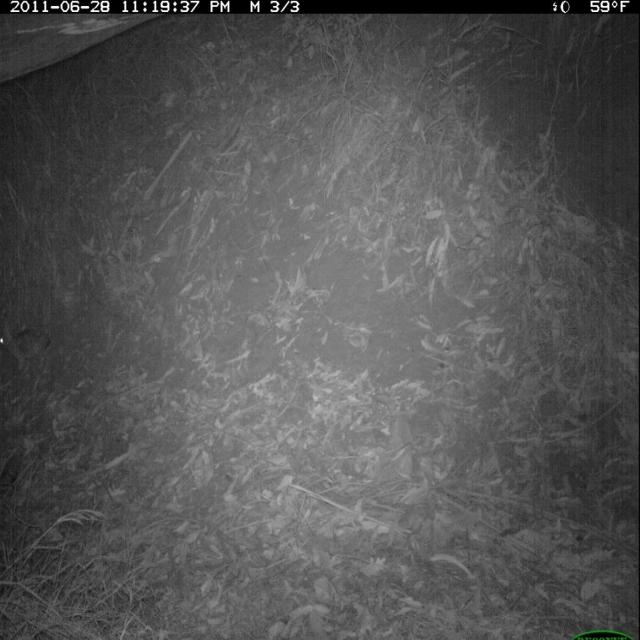rabbit: (1, 308, 60, 373)
